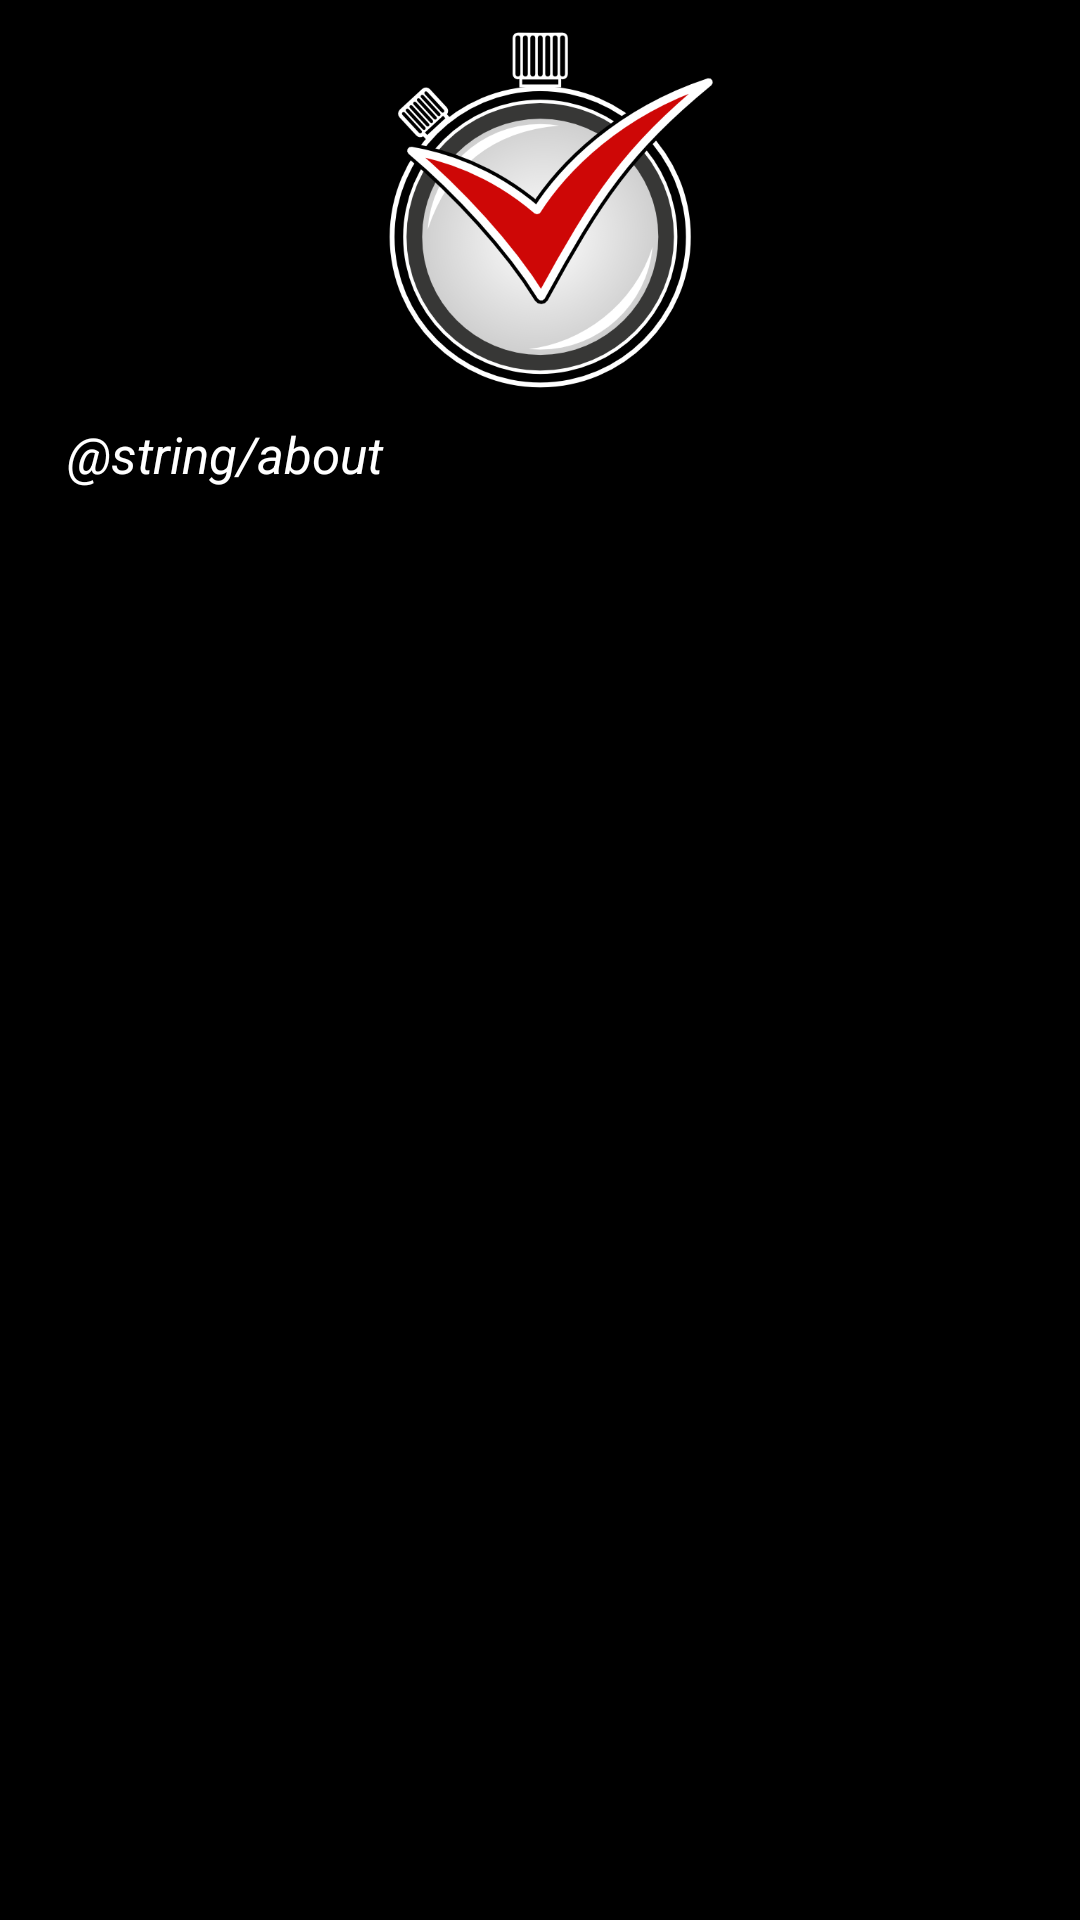

Screen size 1080px x 1920px. Icon name, then its box in pixels as (x1, y1, x2, y2):
tasclock: (389, 32, 713, 388)
